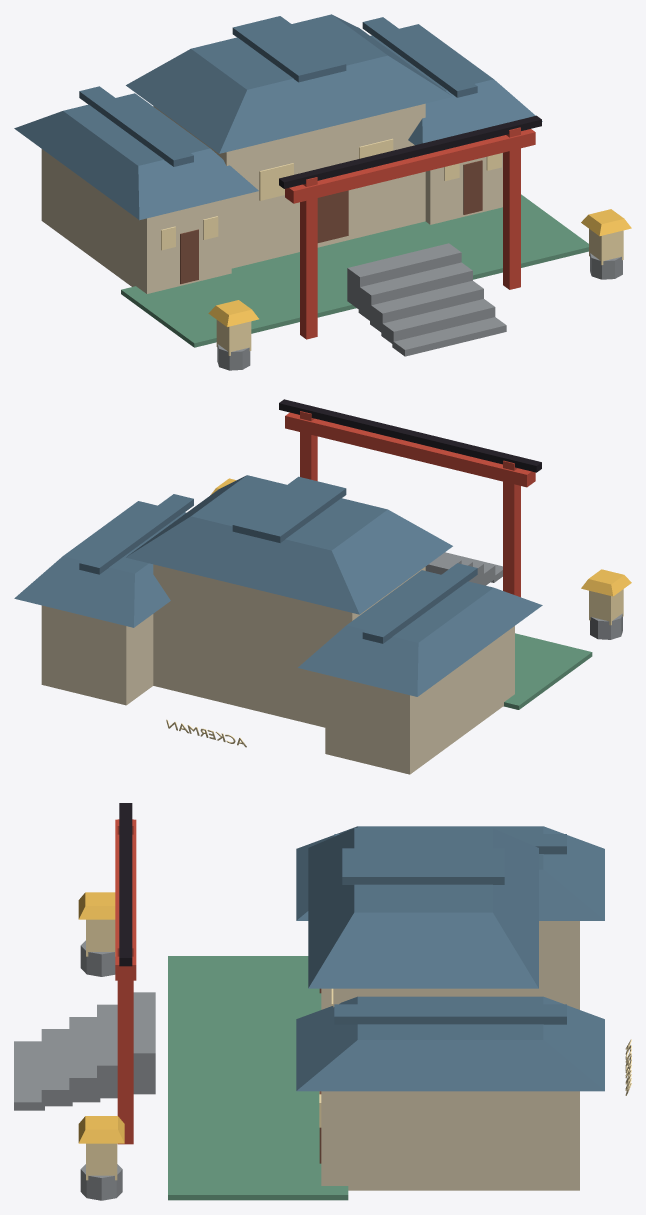
File: 14_ackerman.glb
3 views of the same model, one above another, from view 1: azimuth 30°, elevation 25°; view 2: azimuth 150°, elevation 25°; view 3: azimuth 270°, elevation 25° (orthographic). The views are drawn at different scales.
Visible parts, largest first — view 1: main_roof.003, courtyard_floor.003, main_body.003, wing_roof.006, wing_body.006, wing_roof.007, torii_beam.014, main_ridge.003, torii_lintel.014, wing_body.007, stairs_4.012, wing_ridge.007 (+17 smaller); view 2: main_roof.003, main_body.003, wing_body.006, wing_roof.006, wing_body.007, wing_roof.007, torii_beam.014, main_ridge.003, courtyard_floor.003, torii_lintel.014, wing_ridge.006, wing_ridge.007 (+5 smaller); view 3: courtyard_floor.003, main_roof.003, wing_body.007, wing_roof.007, wing_roof.006, main_ridge.003, wing_ridge.007, wing_body.006, torii_post_R.014, stairs_2.012, stairs_4.012, stairs_1.012 (+12 smaller).
Boxes of the visible parts, x1=… form: main_roof.003: x1=126, y1=14, x2=452, y2=153; courtyard_floor.003: x1=121, y1=194, x2=588, y2=347; main_body.003: x1=153, y1=103, x2=425, y2=268; wing_roof.006: x1=14, y1=93, x2=258, y2=220; wing_body.006: x1=41, y1=149, x2=231, y2=293; wing_roof.007: x1=370, y1=24, x2=542, y2=145; torii_beam.014: x1=285, y1=129, x2=535, y2=203; main_ridge.003: x1=232, y1=16, x2=346, y2=82; torii_lintel.014: x1=279, y1=115, x2=541, y2=188; wing_body.007: x1=425, y1=153, x2=502, y2=224; stairs_4.012: x1=347, y1=243, x2=461, y2=309; wing_ridge.007: x1=362, y1=17, x2=477, y2=97; main_roof.003: x1=126, y1=475, x2=452, y2=614; main_body.003: x1=153, y1=564, x2=425, y2=727; wing_body.006: x1=325, y1=626, x2=514, y2=774; wing_roof.006: x1=298, y1=570, x2=542, y2=696; wing_body.007: x1=41, y1=605, x2=153, y2=705; wing_roof.007: x1=14, y1=501, x2=186, y2=627; torii_beam.014: x1=285, y1=412, x2=535, y2=487; main_ridge.003: x1=232, y1=476, x2=346, y2=542; courtyard_floor.003: x1=503, y1=633, x2=592, y2=709; torii_lintel.014: x1=279, y1=399, x2=541, y2=472; wing_ridge.006: x1=362, y1=563, x2=477, y2=643; wing_ridge.007: x1=79, y1=494, x2=193, y2=574; courtyard_floor.003: x1=168, y1=956, x2=348, y2=1200; main_roof.003: x1=308, y1=828, x2=538, y2=988; wing_body.007: x1=321, y1=1091, x2=579, y2=1190; wing_roof.007: x1=296, y1=996, x2=604, y2=1091; wing_roof.006: x1=296, y1=826, x2=604, y2=920; main_ridge.003: x1=342, y1=848, x2=504, y2=884; wing_ridge.007: x1=334, y1=1004, x2=566, y2=1024; wing_body.006: x1=321, y1=921, x2=579, y2=1009; torii_post_R.014: x1=117, y1=941, x2=133, y2=1144; stairs_2.012: x1=69, y1=1017, x2=100, y2=1102; stairs_4.012: x1=133, y1=992, x2=155, y2=1094; stairs_1.012: x1=41, y1=1029, x2=72, y2=1106.
Size of the model in its own units: 11.48 by 4.81 by 12.33.
